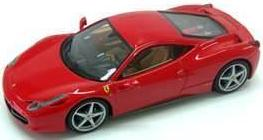front_view: (4, 44, 65, 137)
headlight: (17, 95, 75, 126)
side_glass: (119, 42, 188, 78)
